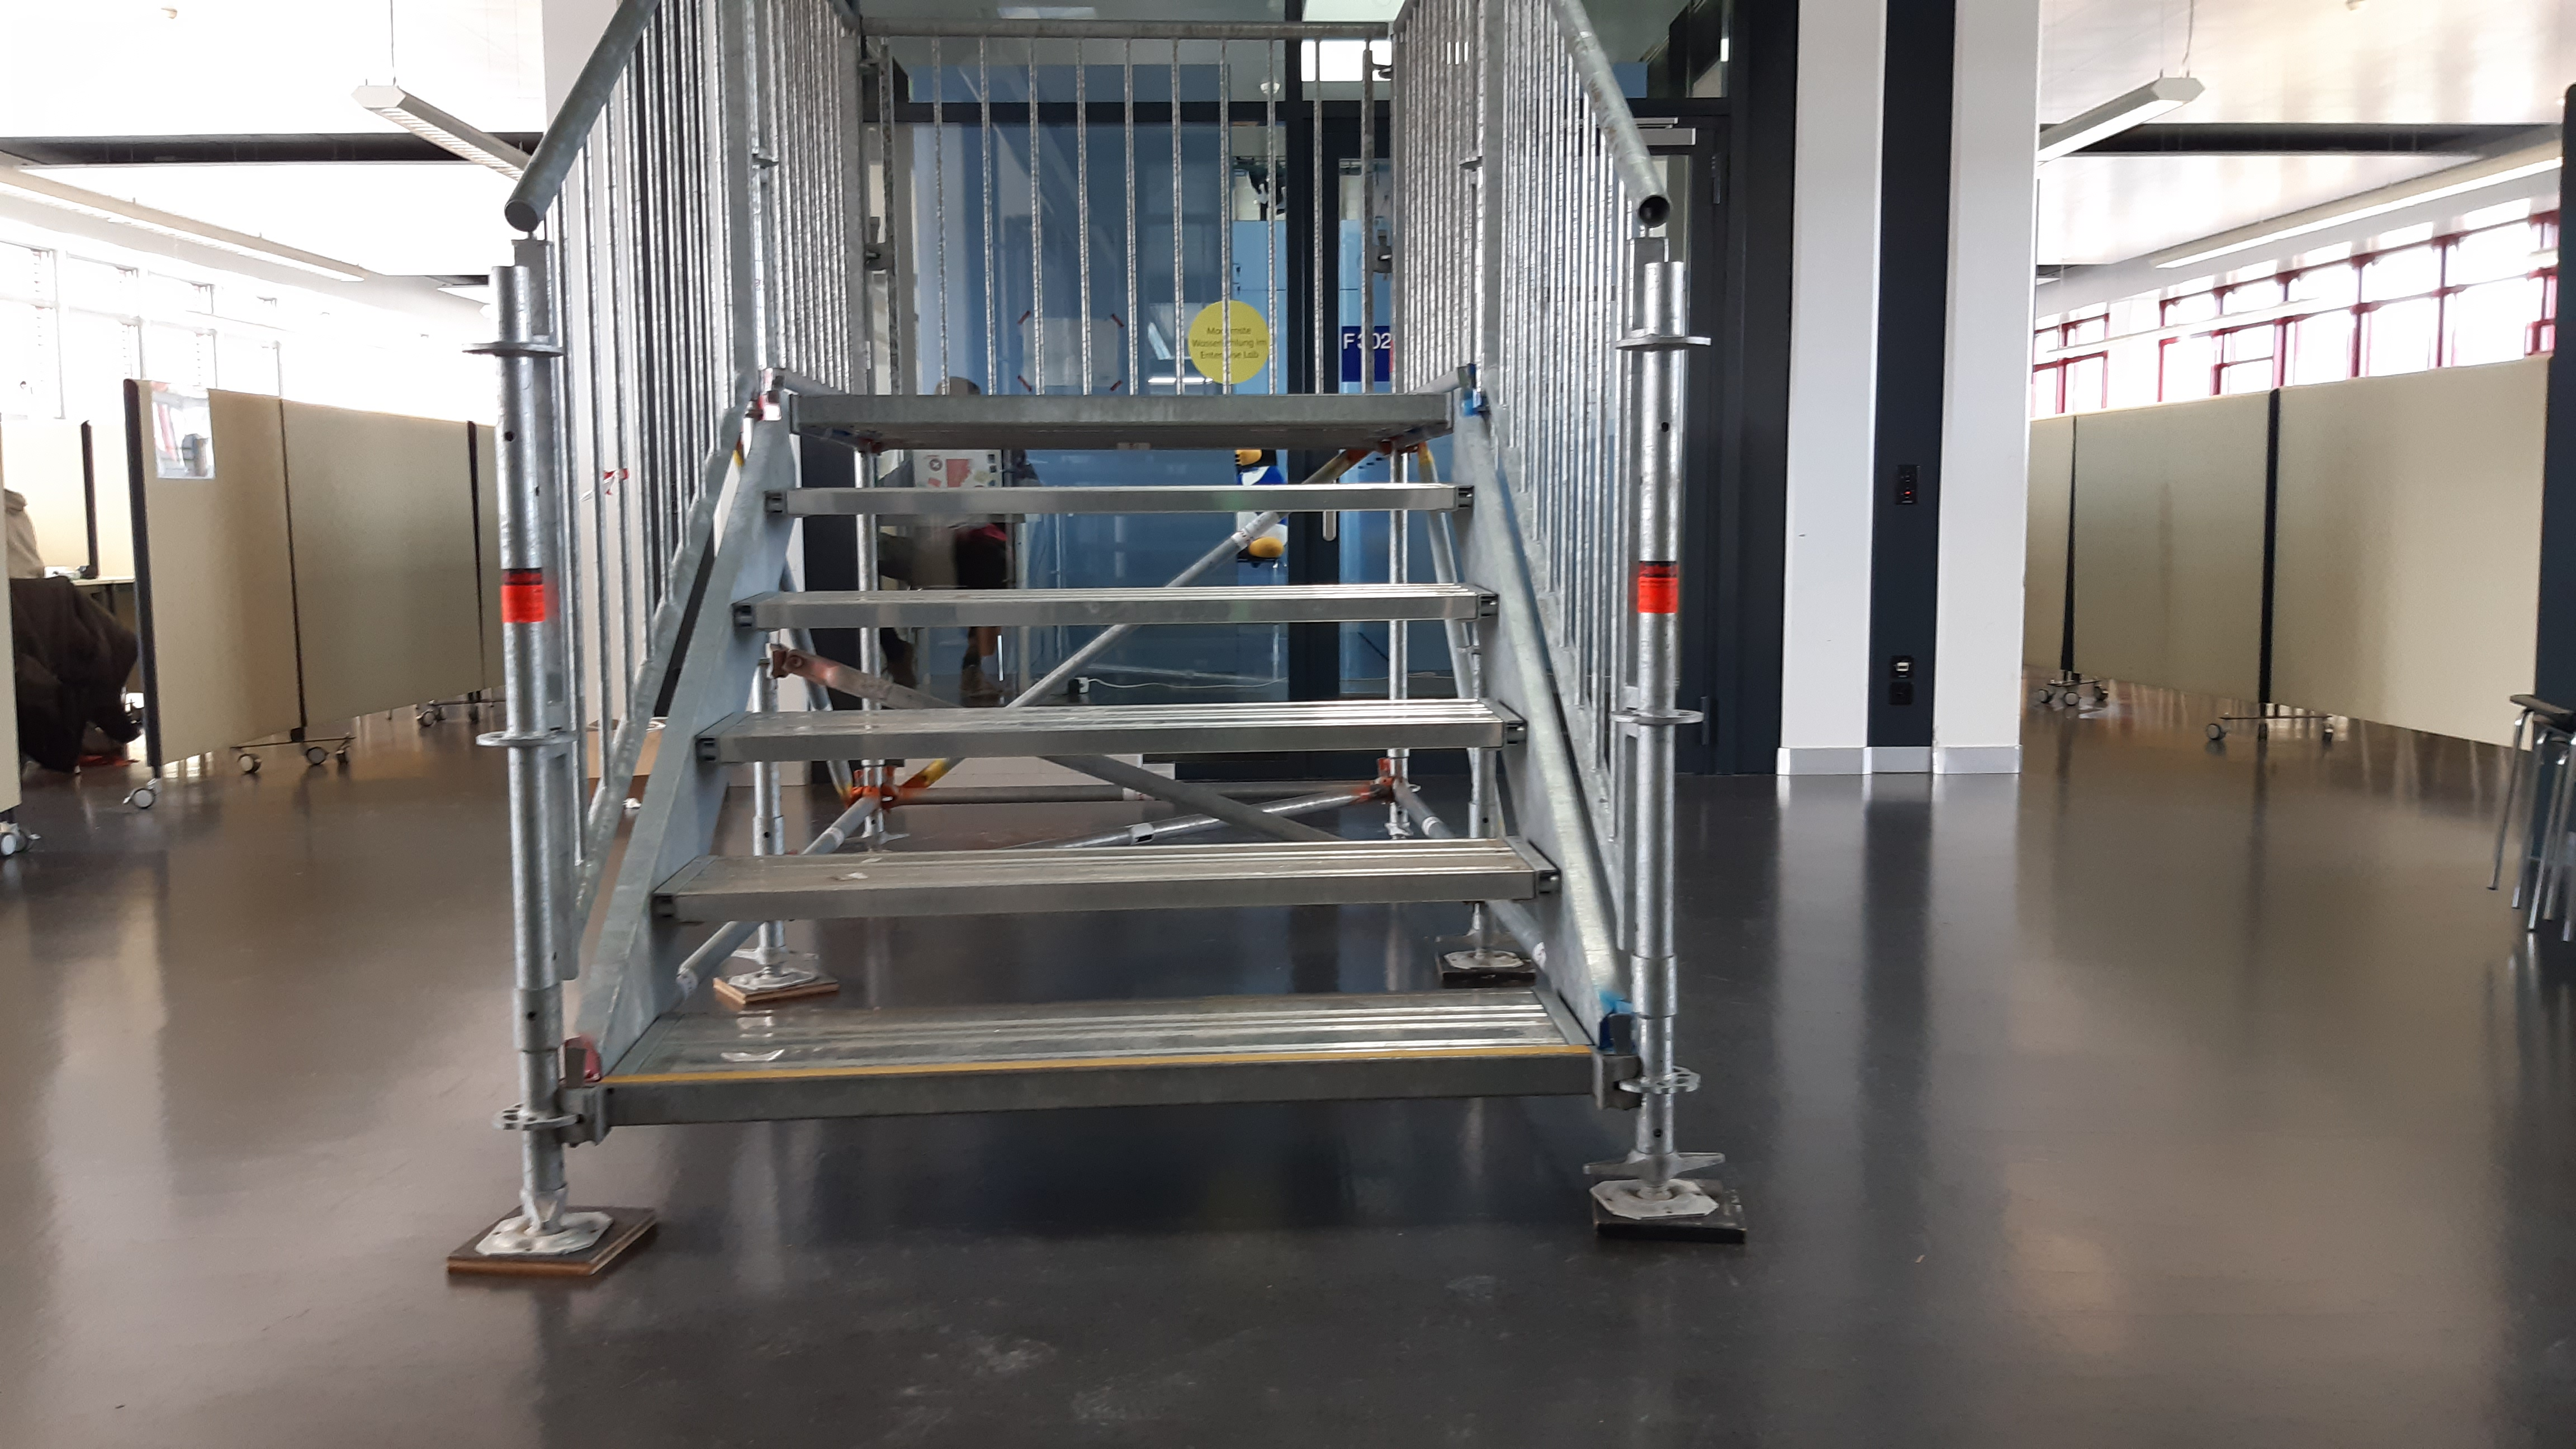edge: (616, 1053, 1594, 1109), (648, 863, 1564, 915), (686, 717, 1529, 755), (738, 593, 1499, 628), (763, 479, 1481, 513), (789, 396, 1451, 425)
stairs: (441, 5, 1746, 1284)
steps: (591, 395, 1599, 1120)
